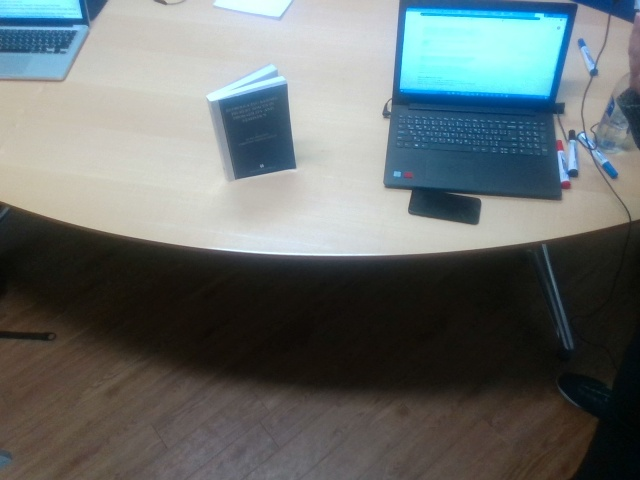book: (207, 95, 297, 170)
